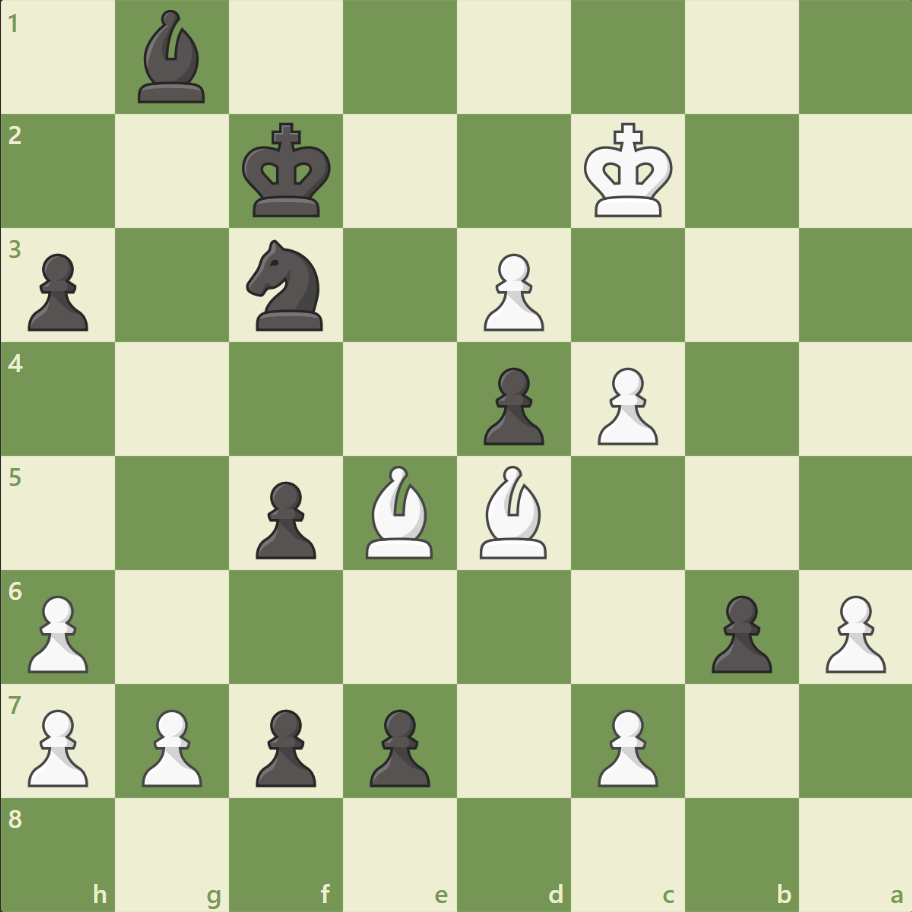B: (471, 460, 555, 563), (358, 460, 442, 563)
K: (579, 117, 679, 225)
P: (133, 700, 208, 791), (20, 700, 95, 791), (20, 586, 95, 677), (474, 246, 549, 337), (588, 700, 662, 791), (815, 586, 889, 677), (588, 359, 662, 450)
b: (131, 6, 215, 109)
k: (238, 117, 338, 225)
n: (238, 234, 335, 337)
p: (247, 700, 322, 791), (701, 586, 776, 677), (247, 473, 322, 564), (474, 359, 549, 450), (20, 246, 95, 337), (361, 700, 435, 791)
